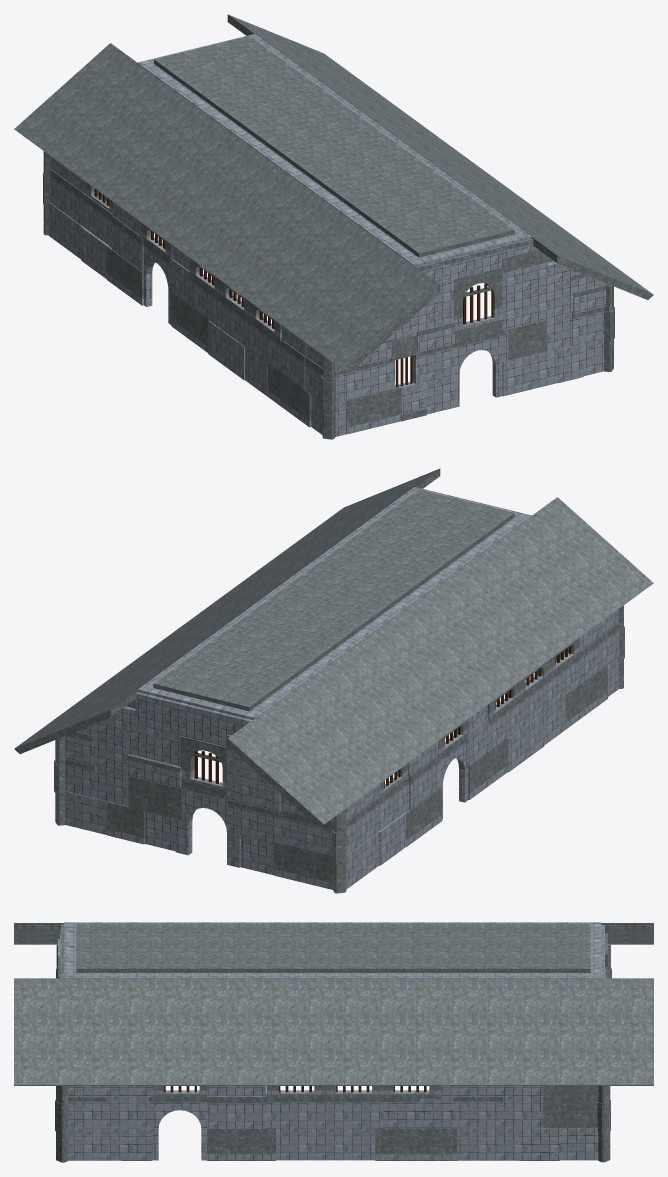
The model's file is Cafeteria_Nfloor.fbx.
3 views of the same model, one above another, from view 1: azimuth 30°, elevation 25°; view 2: azimuth 150°, elevation 25°; view 3: azimuth 270°, elevation 25° (orthographic). The views are drawn at different scales.
Visible parts, largest first — view 1: mergedBlocks; view 2: mergedBlocks; view 3: mergedBlocks.
Boxes of the visible parts, x1,y1,x2,y2 form: mergedBlocks: (14,14,653,439); mergedBlocks: (14,468,653,893); mergedBlocks: (14,922,653,1162).
Size of the model in its own units: 96.87 by 46.3 by 178.
